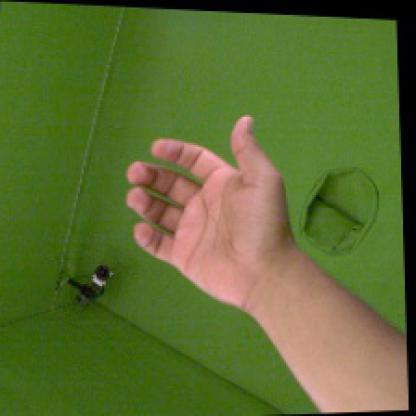Hand: (125, 115, 293, 307)
